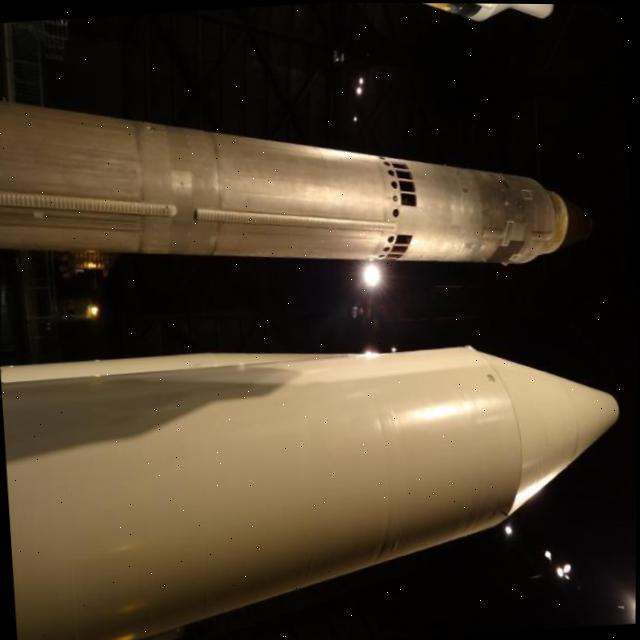missile: (0, 316, 637, 640), (0, 50, 593, 306)
